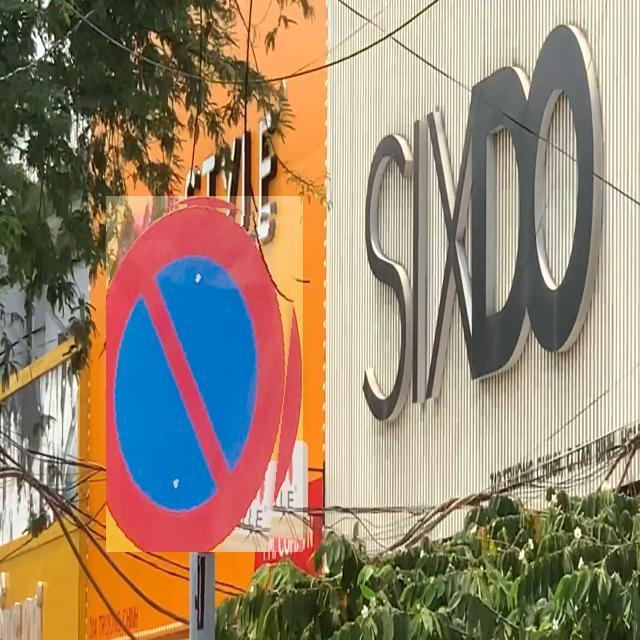P-131a: (106, 196, 303, 552)
